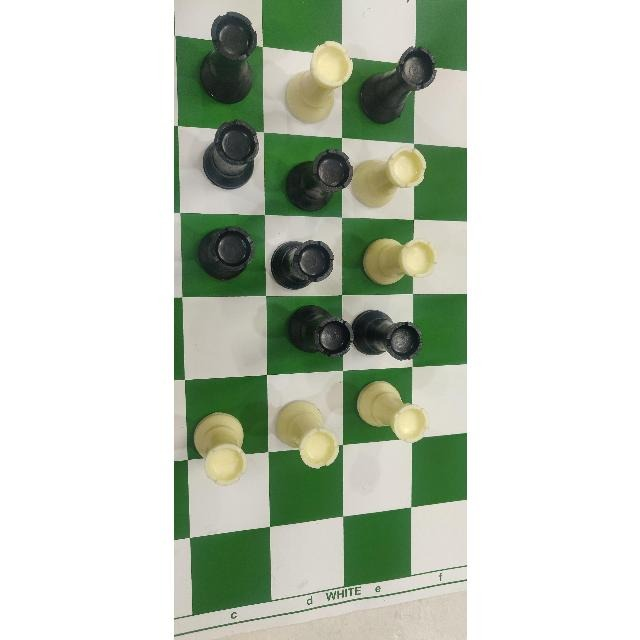black-rook: (358, 26, 443, 136), (192, 14, 264, 120), (276, 140, 353, 217), (195, 125, 263, 199), (269, 305, 354, 363), (190, 221, 260, 286), (358, 301, 428, 365), (268, 226, 337, 289)
white-rook: (185, 394, 261, 489), (282, 43, 352, 133), (274, 393, 346, 480), (356, 142, 431, 217), (353, 229, 442, 291), (355, 378, 435, 443)
